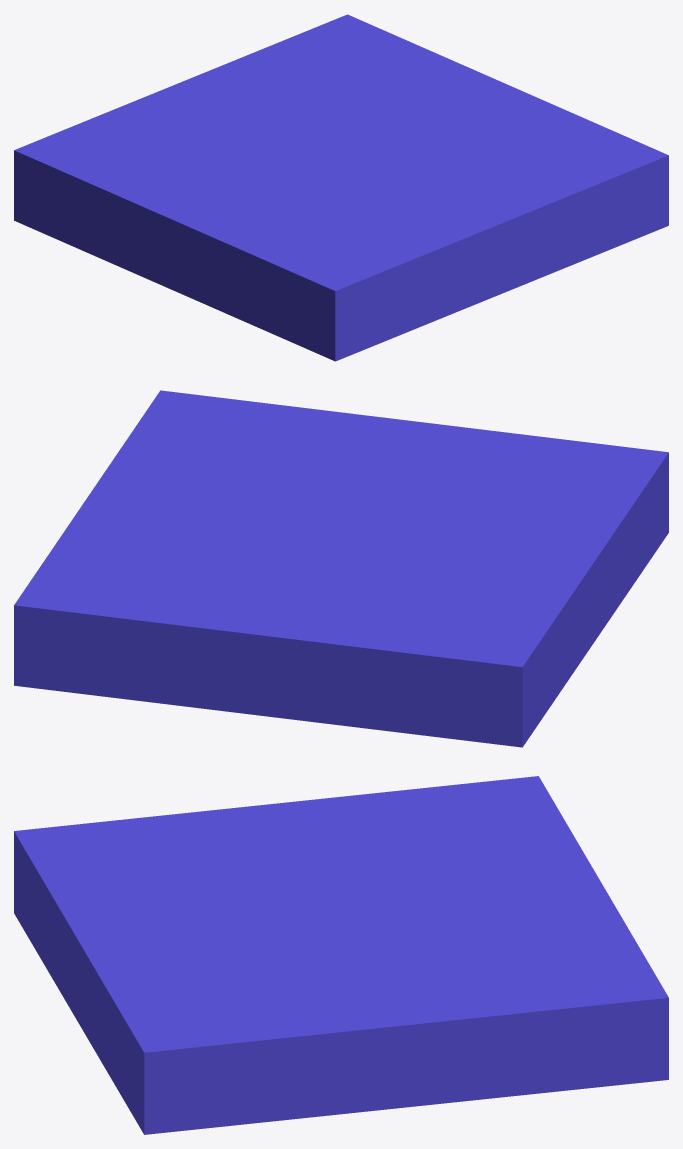
The model's file is Book1.fbx.
3 views of the same model, one above another, from view 1: azimuth 30°, elevation 25°; view 2: azimuth 150°, elevation 25°; view 3: azimuth 270°, elevation 25° (orthographic). The views are drawn at different scales.
Parts seen in each view (by area): view 1: WallShelfBook.002; view 2: WallShelfBook.002; view 3: WallShelfBook.002.
Part boxes in pixels (left/top/right/bottom): WallShelfBook.002: left=14, top=14, right=668, bottom=361; WallShelfBook.002: left=14, top=390, right=668, bottom=747; WallShelfBook.002: left=14, top=776, right=668, bottom=1134.
Size of the model in its own units: 23.68 by 3.28 by 23.68.
